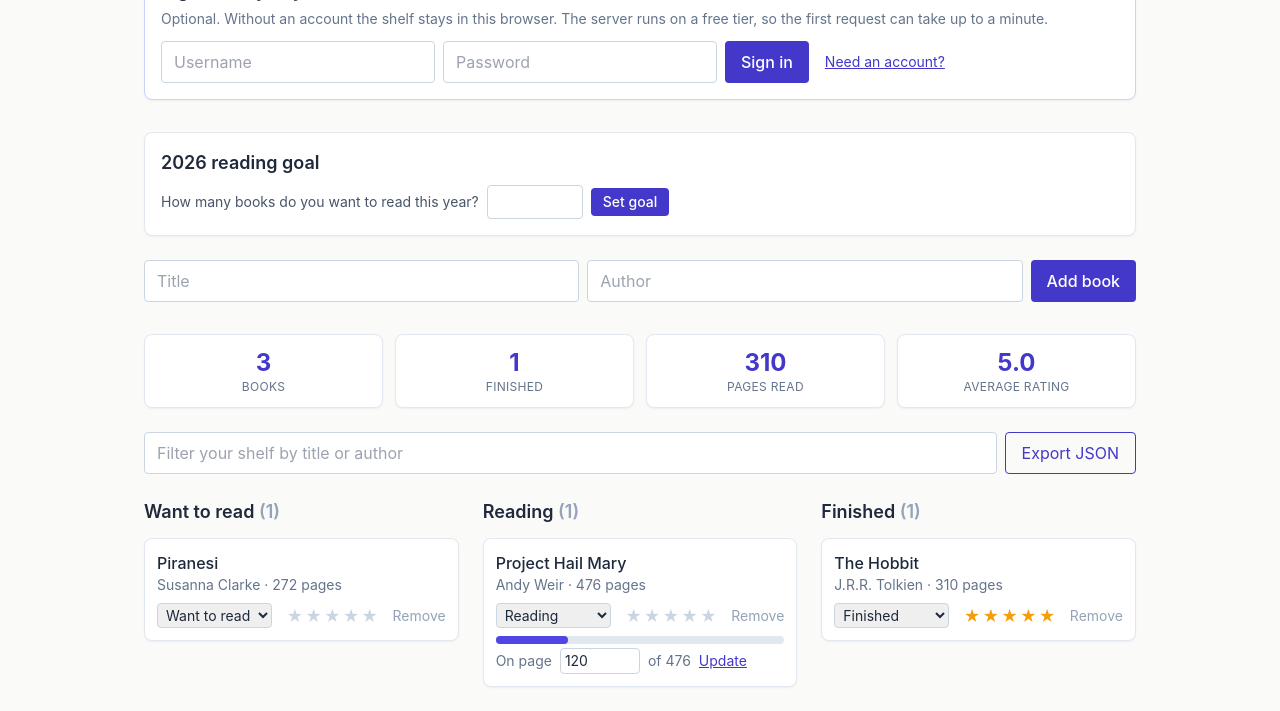
Test case: updates the current page of a book being read
This screenshot has width=1280, height=711.
(page scrolled)
Replace the text in the number field named "Current page of Project Hail Mary" with "200" at point(600, 661), box top-left (560, 648), bottom-right (640, 674)
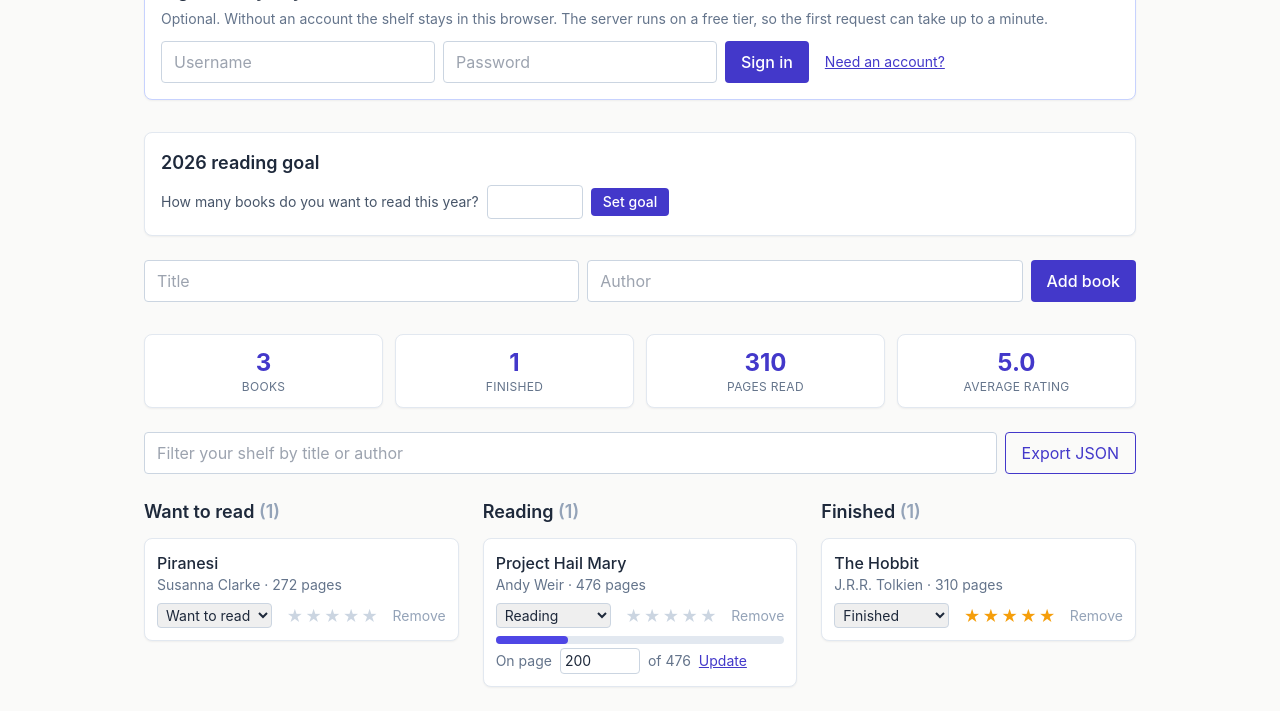
Submit the form named "update current page for project hail mary", box top-left (496, 648), bottom-right (784, 674)
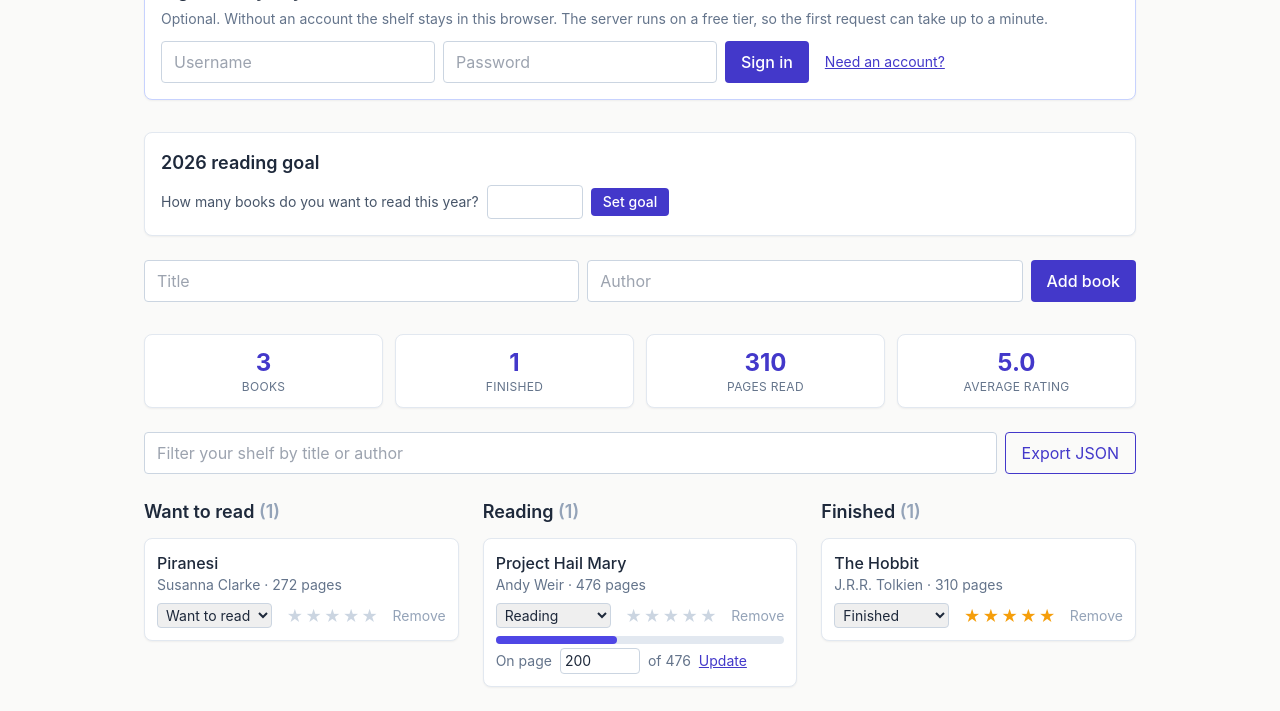
Expected: the progress indicator named "page progress for project hail mary" has attribute aria-valuenow="200", top-left (496, 636), bottom-right (784, 644)
